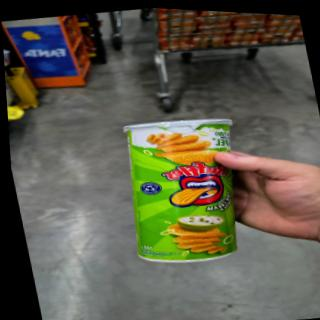food-box: (90, 106, 268, 276)
